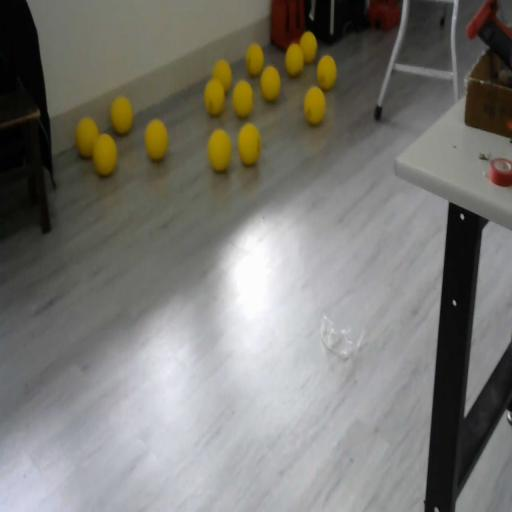FUEL: (143, 116, 170, 162), (207, 127, 233, 172), (92, 132, 118, 176), (237, 122, 261, 166), (110, 95, 134, 135), (76, 116, 98, 158), (232, 79, 254, 118), (304, 86, 326, 125), (316, 52, 337, 90), (260, 64, 280, 102), (212, 58, 232, 94), (285, 42, 304, 76), (299, 30, 318, 63), (245, 43, 264, 76)
